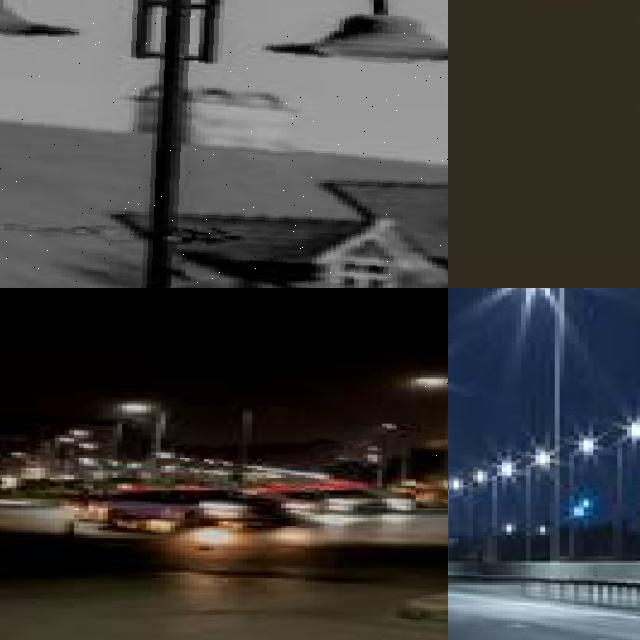street light: (0, 0, 448, 288), (511, 288, 561, 555), (228, 406, 284, 501), (117, 404, 168, 497), (564, 434, 598, 557), (416, 379, 448, 508), (521, 447, 555, 561), (617, 420, 640, 557)
